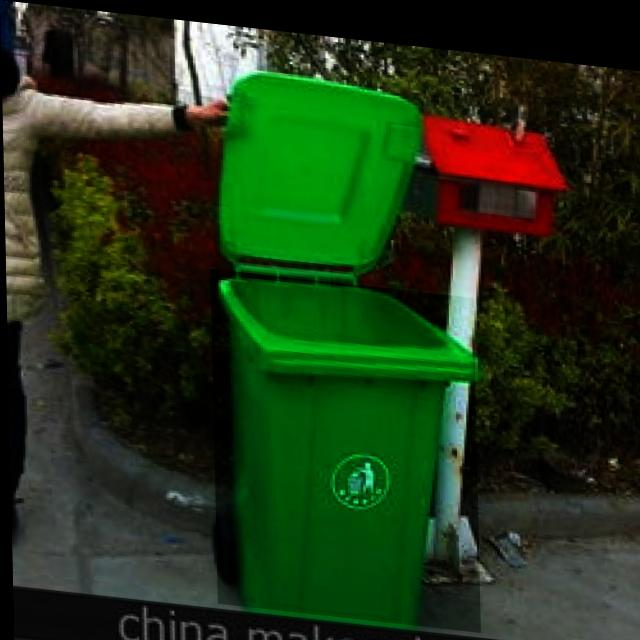garbage_bin: (209, 264, 478, 622)
